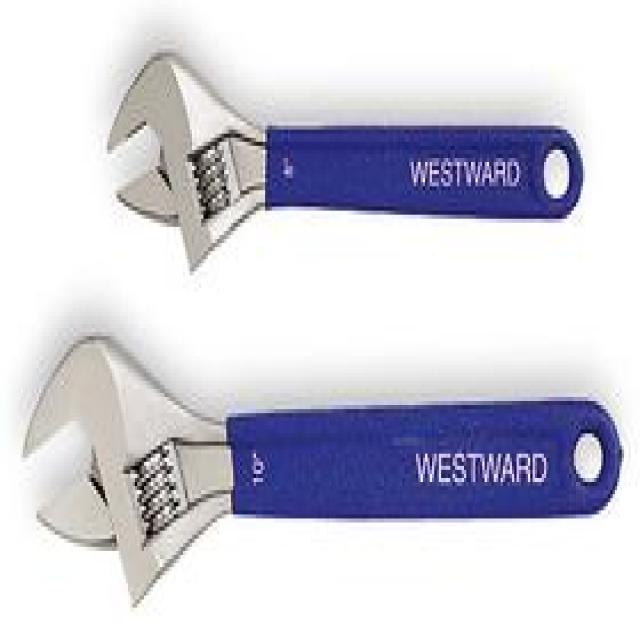wrench: (6, 302, 634, 633), (93, 37, 640, 279)
